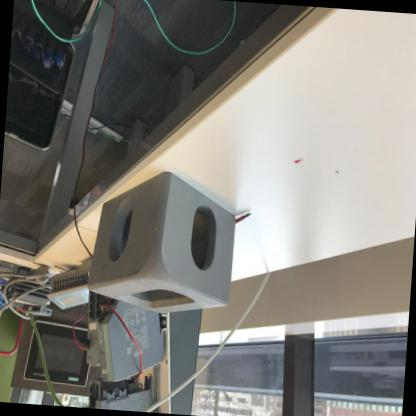CornerCasting: (84, 164, 242, 324)
